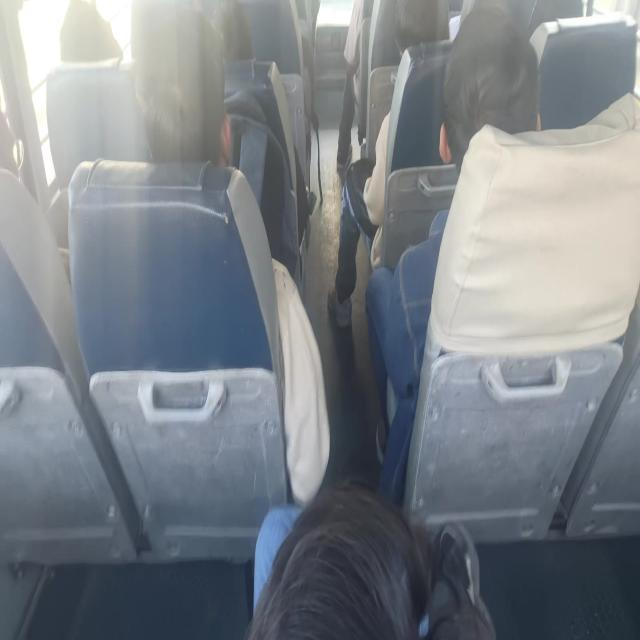person: (250, 474, 501, 640), (440, 24, 539, 184), (139, 24, 219, 177), (51, 0, 124, 71), (188, 0, 257, 72), (0, 92, 39, 187), (393, 0, 454, 53)
